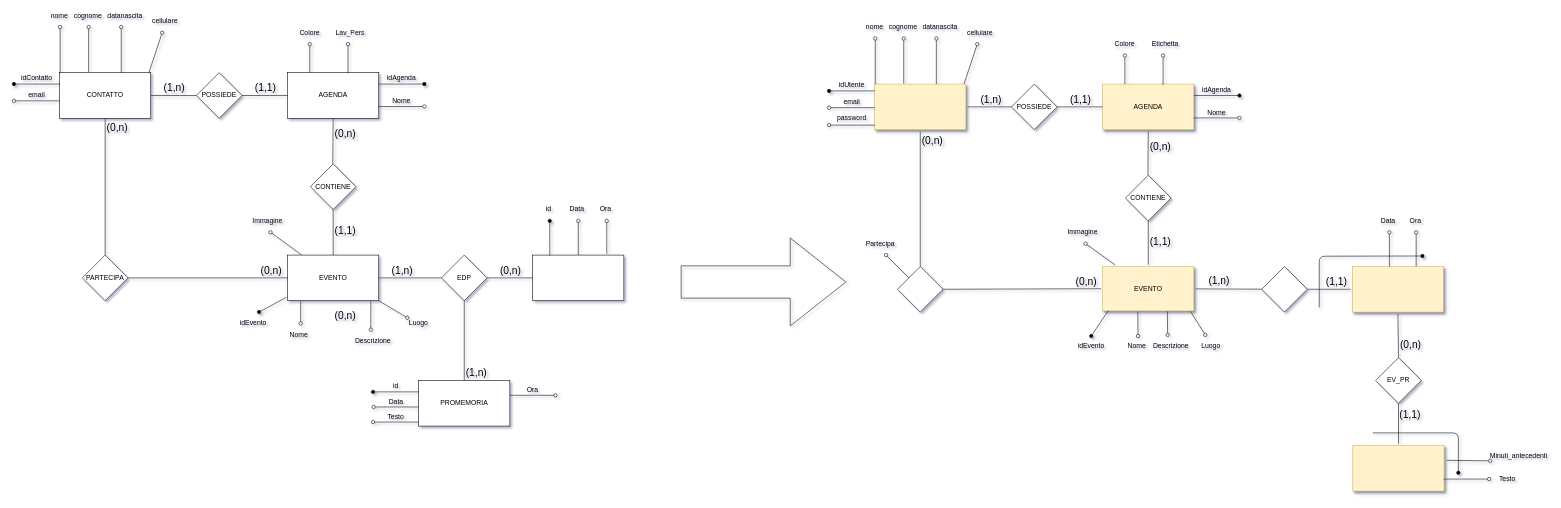
The diagram is 1561 pixels wide and 508 high, and some of its shapes have lost their labels. The shapes that lost their labels are listed below. From the top down, each one's centre as x and y in pixels, then its label:
point (920, 107): UTENTE
point (578, 278): DATAORA
point (920, 289): E' invitato
point (1284, 289): HA
point (1398, 290): ISTANZA_EVENTO
point (1399, 469): NOTIFICA
